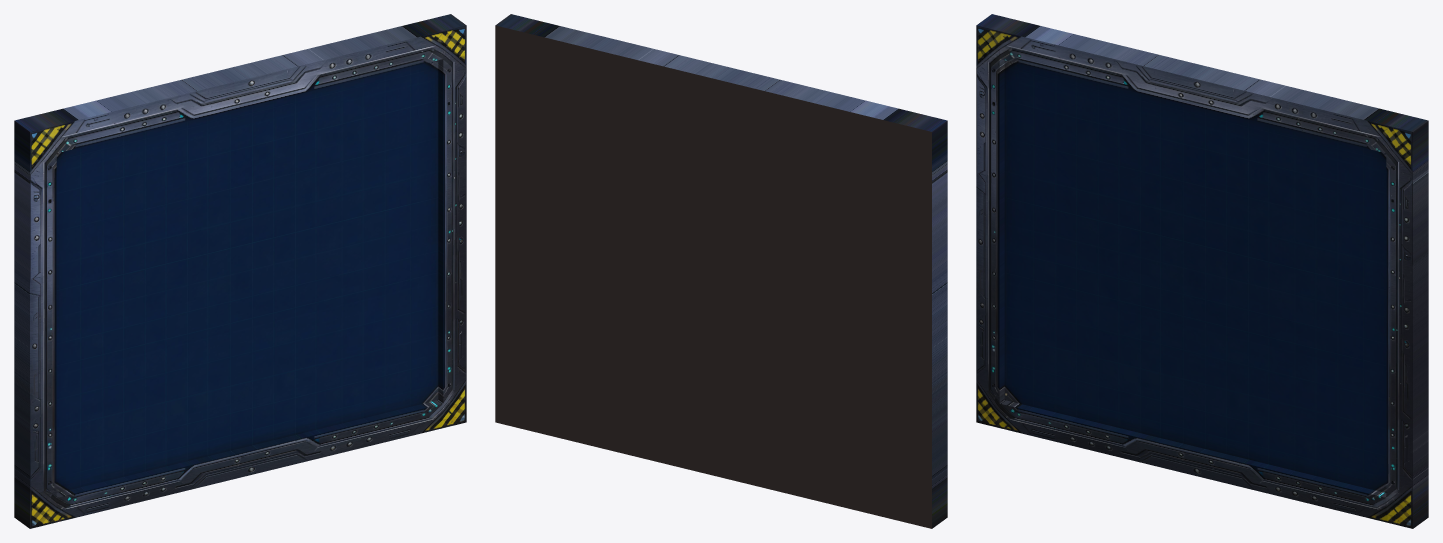
File: panel_intro.glb
3 renders of one model, left to right at view 1: azimuth 30°, elevation 25°; view 2: azimuth 150°, elevation 25°; view 3: azimuth 330°, elevation 25°, orthographic.
Visible parts, largest first — view 1: panel_intro; view 2: panel_intro; view 3: panel_intro.
Part boxes in pixels (x1,y1,x2,y2): panel_intro: [14, 14, 466, 528]; panel_intro: [495, 14, 947, 528]; panel_intro: [976, 14, 1428, 528].
Size of the model in its own units: 0.61 by 0.53 by 0.042.
1 material, 1 textured.
